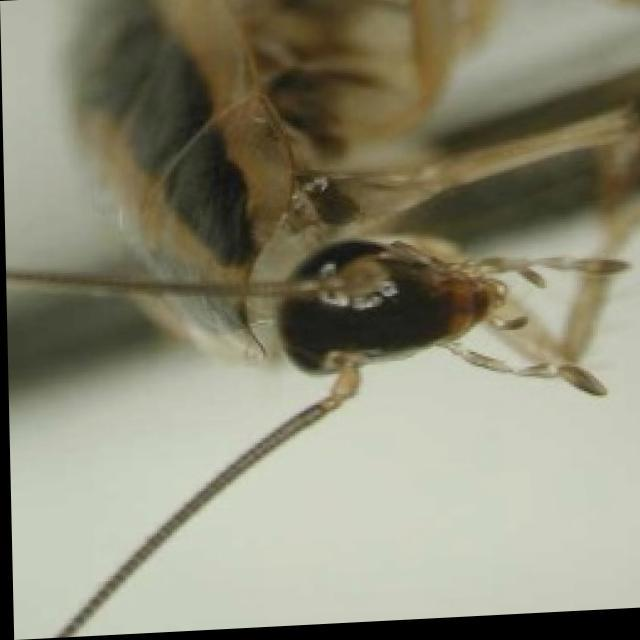cockroach: (71, 0, 547, 446)
